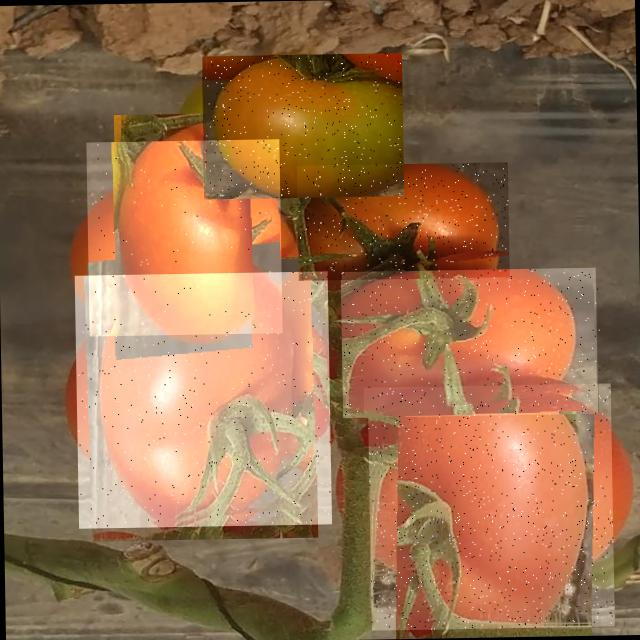Ripe Tomato: (75, 271, 332, 528), (368, 383, 614, 630), (340, 268, 602, 418), (86, 139, 282, 336), (296, 162, 509, 280)
Unripe Tomato: (202, 53, 404, 199)
